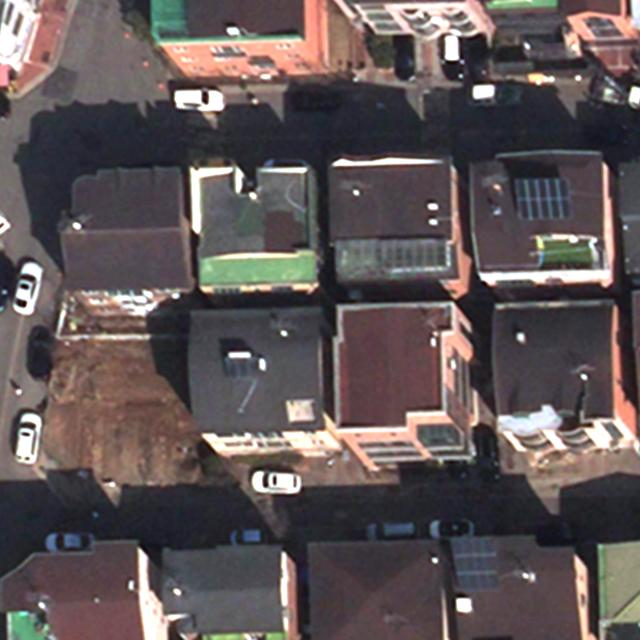panel: (444, 533, 502, 592), (511, 176, 573, 220)
